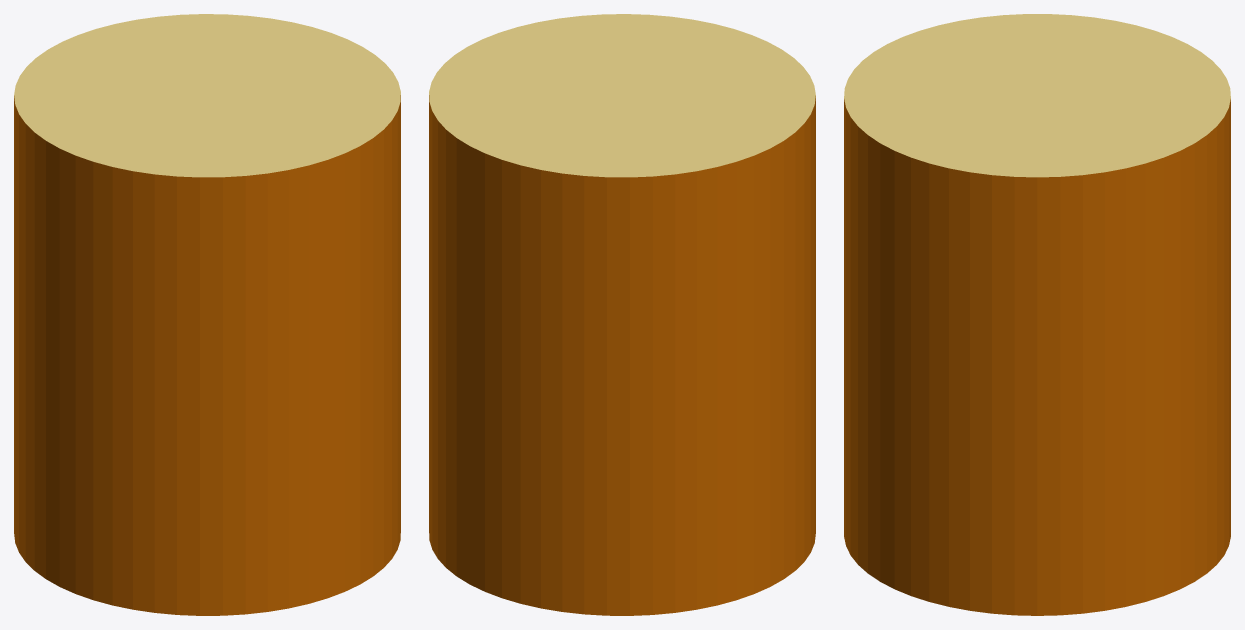
File: artsoppa.dae
3 renders of one model, left to right at view 1: azimuth 30°, elevation 25°; view 2: azimuth 150°, elevation 25°; view 3: azimuth 270°, elevation 25°, orthographic.
Visible parts, largest first — view 1: artsoppa; view 2: artsoppa; view 3: artsoppa.
Part boxes in pixels (<box>): artsoppa: <box>14,14,400,615</box>; artsoppa: <box>429,14,815,615</box>; artsoppa: <box>844,14,1230,615</box>.
Size of the model in its own units: 200 by 200 by 250.
